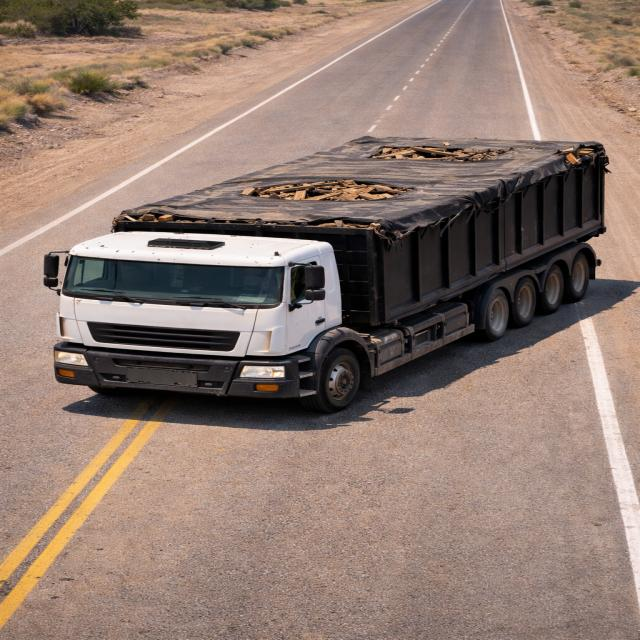trailer: (117, 134, 609, 228)
truck: (39, 128, 618, 404)
